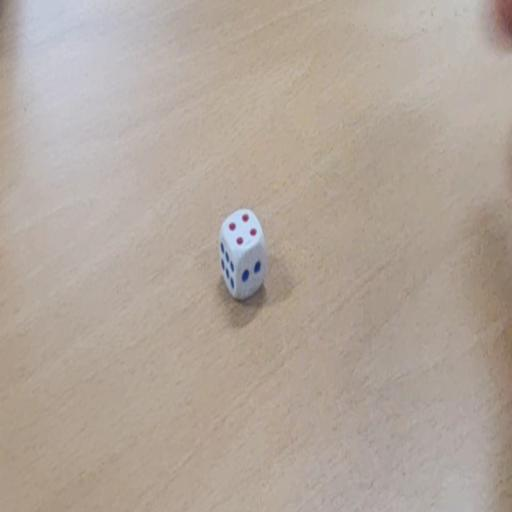dice_4: (218, 208, 266, 302)
